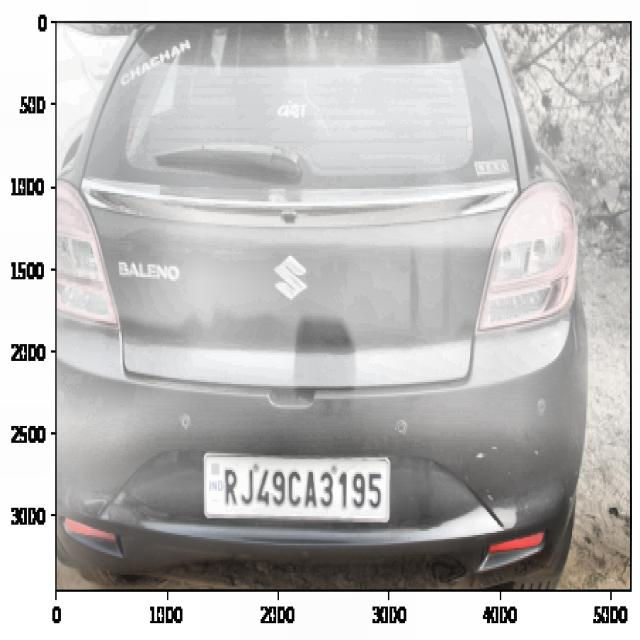license_plate: (216, 456, 387, 519)
